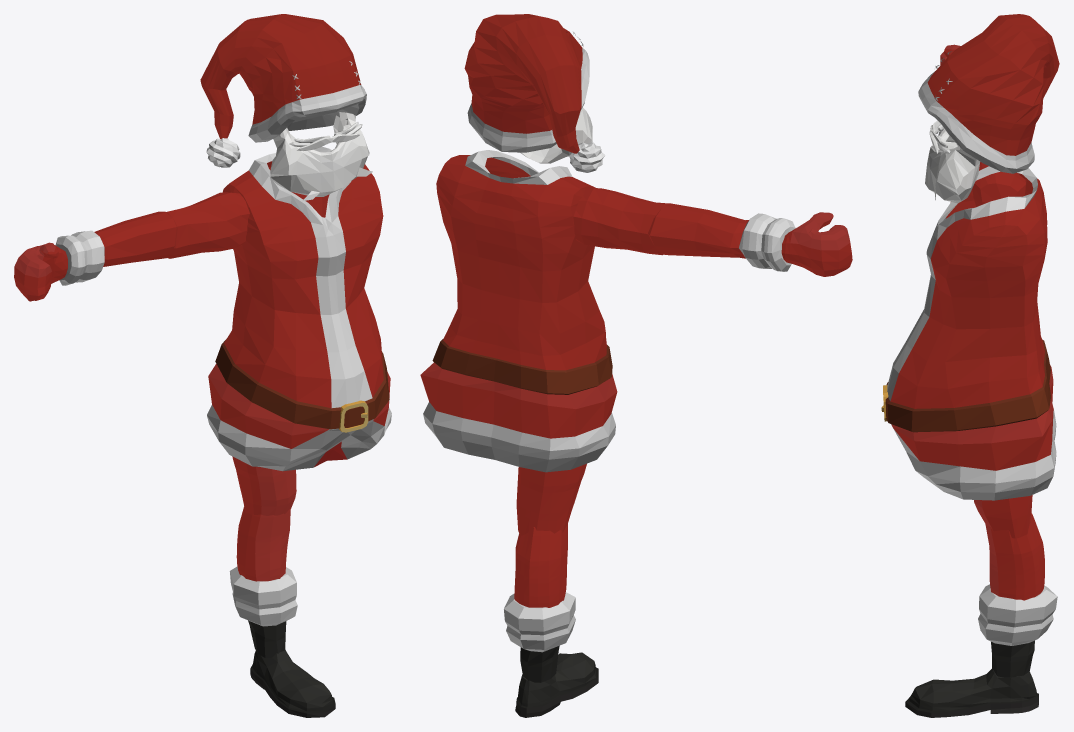
File: santaFemale.glb
The picture shows the model from 3 angles, left to right: view 1: azimuth 30°, elevation 25°; view 2: azimuth 150°, elevation 25°; view 3: azimuth 270°, elevation 25°; orthographic projection. The views are drawn at different scales.
Visible parts, largest first — view 1: santaTorso, santaHat, santaLowerArm, santaUpperArm, santaBootLowerLeg, santaBootFoot, santaLowerLeg, santaUpperLeg, santaGlove; view 2: santaTorso, santaHat, santaLowerArm, santaUpperArm, santaBootLowerLeg, santaLowerLeg, santaUpperLeg, santaGlove, santaBootFoot; view 3: santaTorso, santaHat, santaBootLowerLeg, santaBootFoot, santaLowerLeg, santaUpperLeg, santaUpperArm.
Boxes of the visible parts, x1,y1,x2,y2 form: santaTorso: (207, 146, 391, 471); santaHat: (200, 14, 372, 201); santaLowerArm: (55, 211, 177, 285); santaUpperArm: (166, 192, 249, 258); santaBootLowerLeg: (229, 566, 297, 658); santaBootFoot: (250, 650, 335, 717); santaLowerLeg: (236, 506, 290, 581); santaUpperLeg: (232, 456, 296, 515); santaGlove: (14, 242, 67, 301); santaTorso: (420, 150, 617, 472); santaHat: (464, 14, 605, 172); santaLowerArm: (648, 203, 795, 271); santaUpperArm: (573, 187, 668, 255); santaBootLowerLeg: (504, 592, 575, 682); santaLowerLeg: (514, 524, 567, 607); santaUpperLeg: (516, 463, 586, 535); santaGlove: (781, 212, 852, 276); santaBootFoot: (515, 652, 598, 717); santaTorso: (881, 166, 1056, 500); santaHat: (918, 14, 1059, 203); santaBootLowerLeg: (978, 584, 1057, 677); santaBootFoot: (905, 669, 1038, 717); santaLowerLeg: (985, 513, 1044, 600); santaUpperLeg: (974, 495, 1032, 538); santaUpperArm: (972, 162, 1025, 206).
Size of the model in its own units: 1.2 by 2 by 0.4698.
